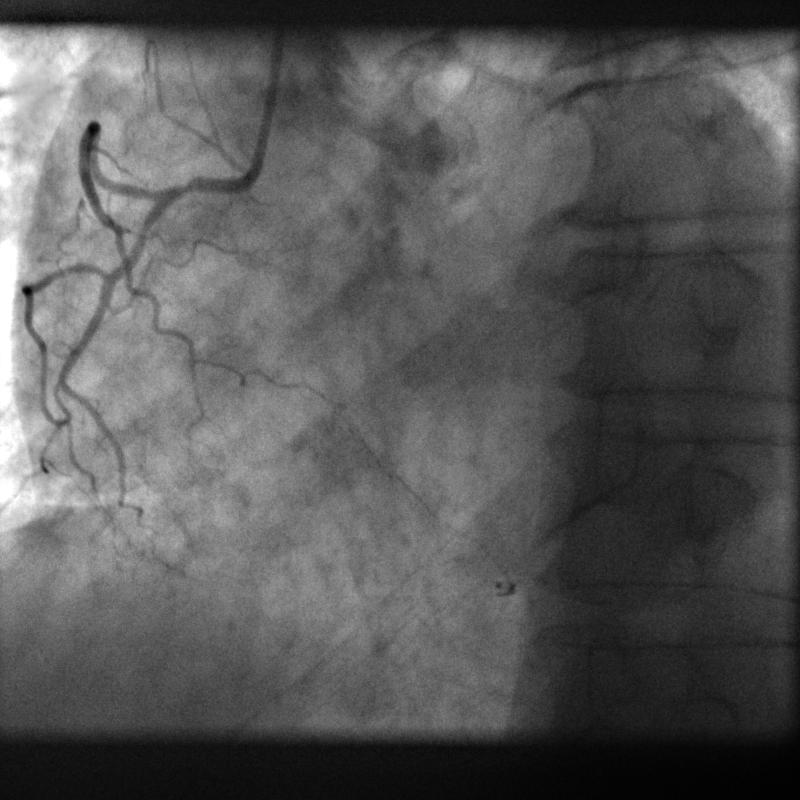Stenosis: (164, 174, 203, 206)
